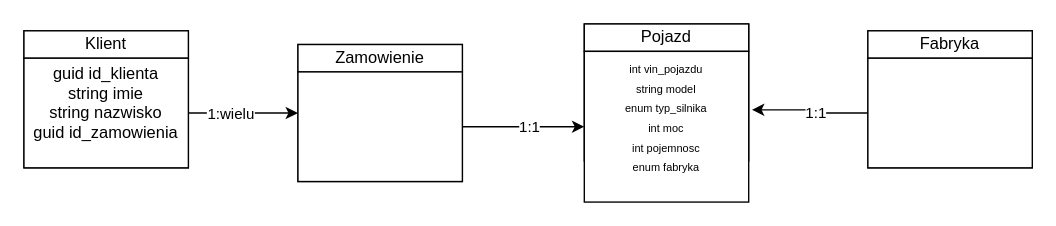
The diagram is 1056 pixels wide and 226 high, and some of its shapes have lost their labels. The box of each missing label's shape, as (x1, y1, x2, y2) in pixels:
guid id_zamowienia int vin_pojazdu int koszt: (297, 71, 462, 182)
int id_fabryki string miejscowosc: (867, 57, 1032, 168)
